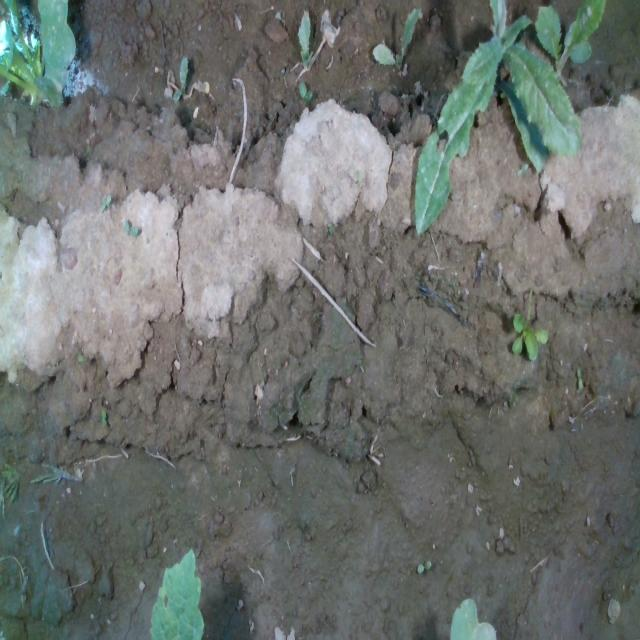weed: (298, 80, 312, 100)
